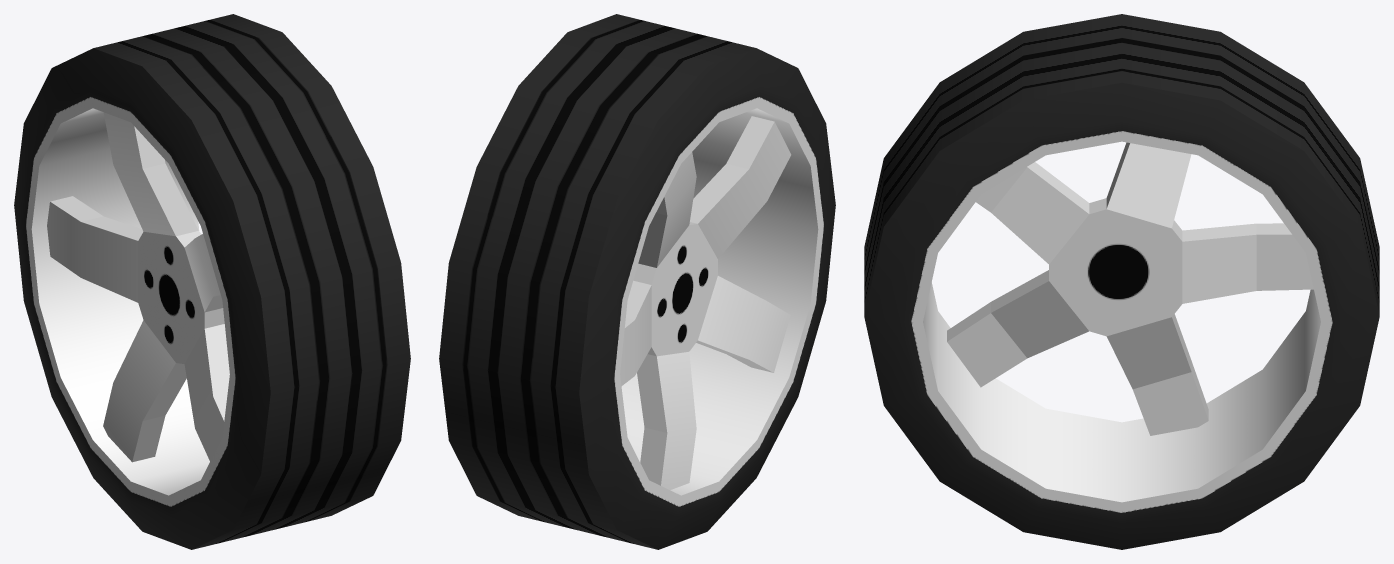
The model's file is Wheels.FBX.
3 views of the same model, side by side, from view 1: azimuth 30°, elevation 25°; view 2: azimuth 150°, elevation 25°; view 3: azimuth 270°, elevation 25° (orthographic).
Visible parts, largest first — view 1: Wheel4; view 2: Wheel4; view 3: Wheel4.
Boxes of the visible parts, x1,y1,x2,y2 form: Wheel4: (14, 14, 410, 549); Wheel4: (439, 14, 835, 549); Wheel4: (864, 14, 1379, 549).
Bounding box in the file's own units: 369 × 1004 × 1004.
1 material, 1 textured.
